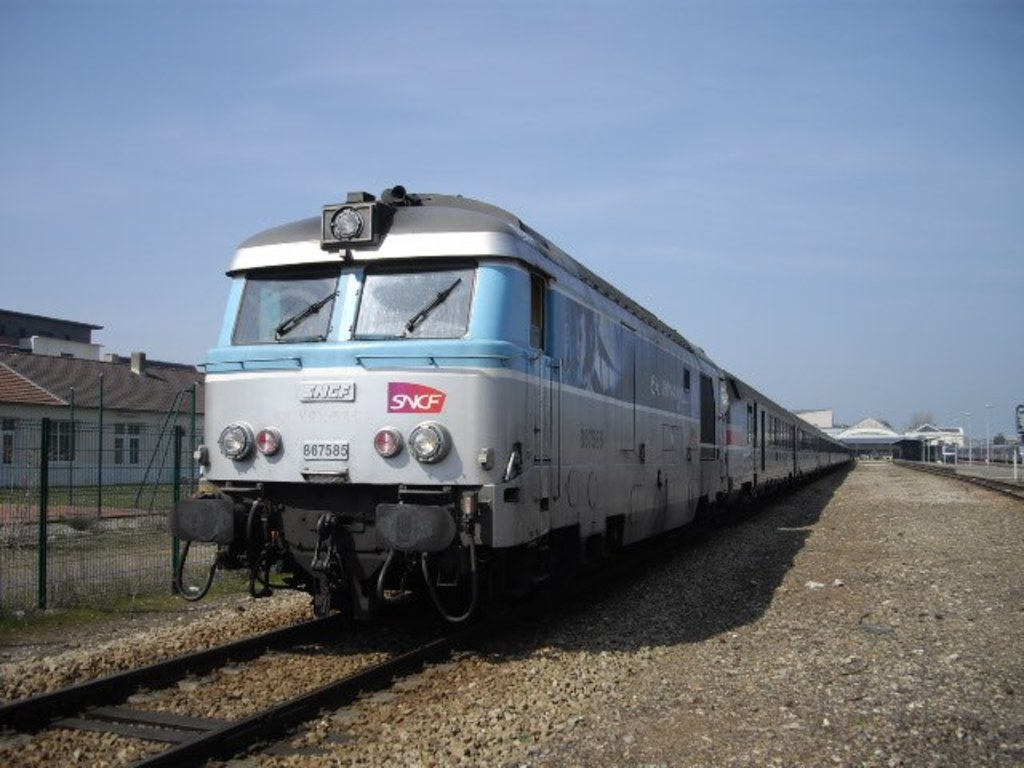train: (171, 183, 859, 625)
